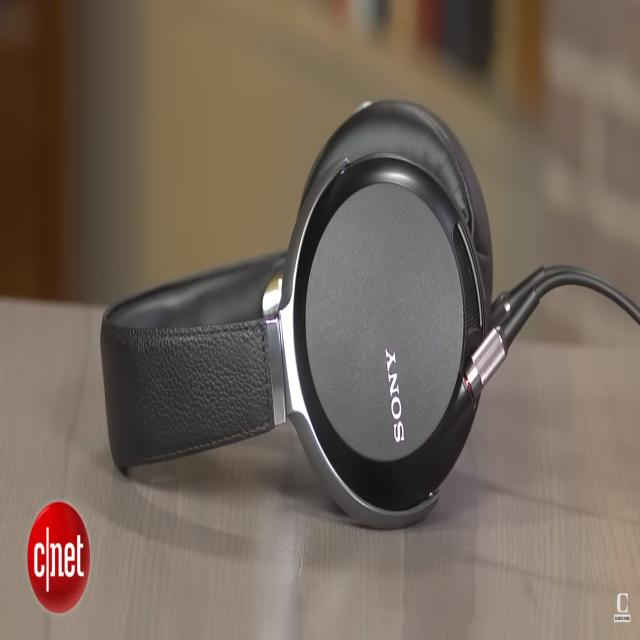Headphone: (99, 99, 494, 532)
